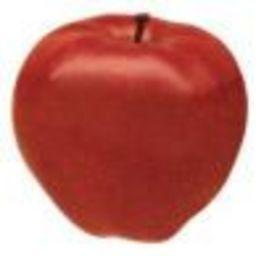apple: (11, 11, 246, 243)
